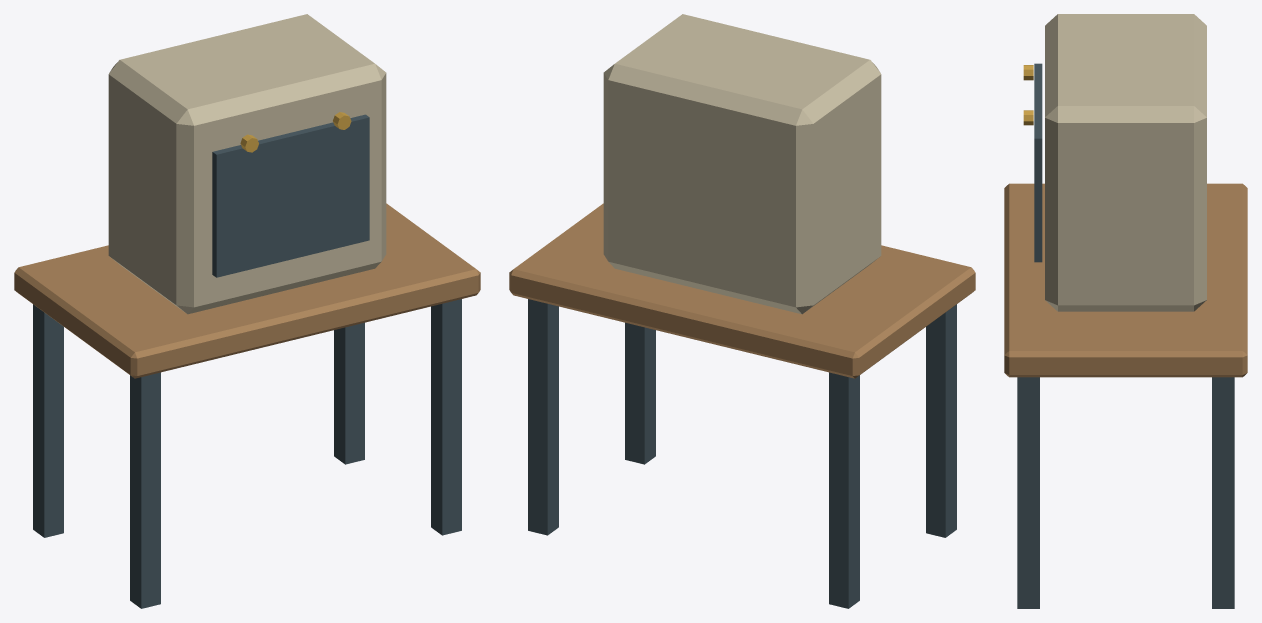
Rendered from oven_station.glb.
The picture shows the model from 3 angles, left to right: view 1: azimuth 30°, elevation 25°; view 2: azimuth 150°, elevation 25°; view 3: azimuth 270°, elevation 25°; orthographic projection.
Parts seen in each view (by area): view 1: oven_station; view 2: oven_station; view 3: oven_station.
Part boxes in pixels (x1,y1,x2,y2): oven_station: (14,14,480,608); oven_station: (509,14,975,608); oven_station: (1004,14,1247,608).
Size of the model in its own units: 1.25 by 1.6 by 0.75.
